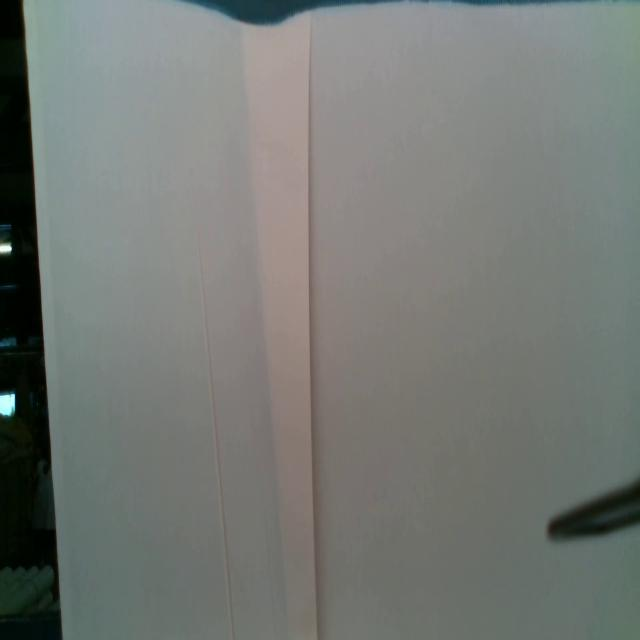crease: (198, 238, 234, 640), (306, 15, 321, 640)
